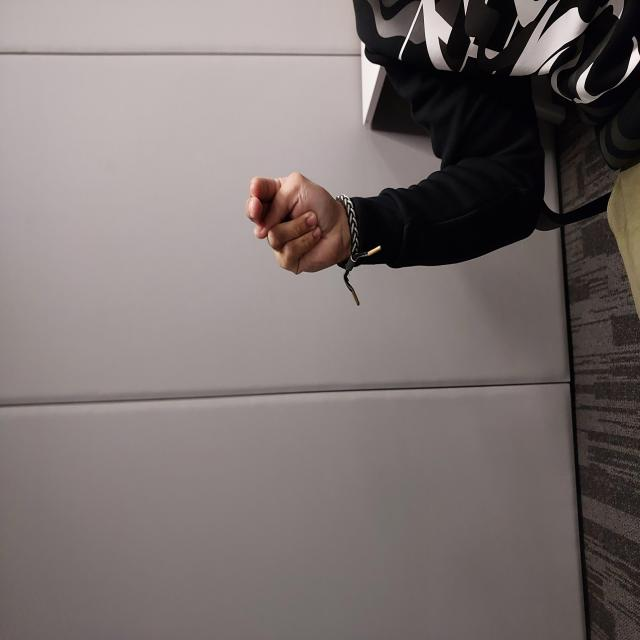N: (364, 244, 469, 351)
